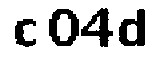0: (47, 6, 81, 47)
4: (81, 6, 113, 51)
c: (12, 17, 39, 48)
d: (119, 6, 148, 50)
